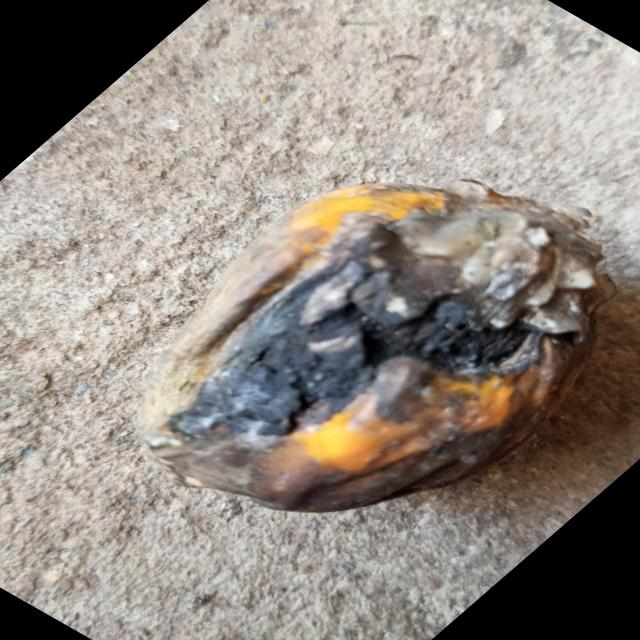damaged: (140, 183, 614, 511)
